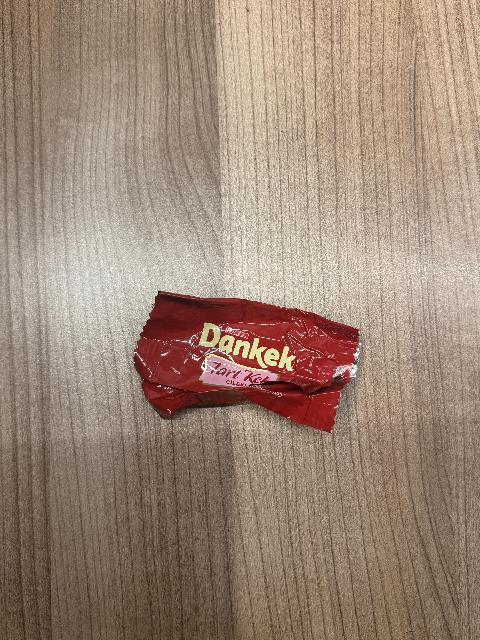Plastik: (127, 285, 392, 454)
